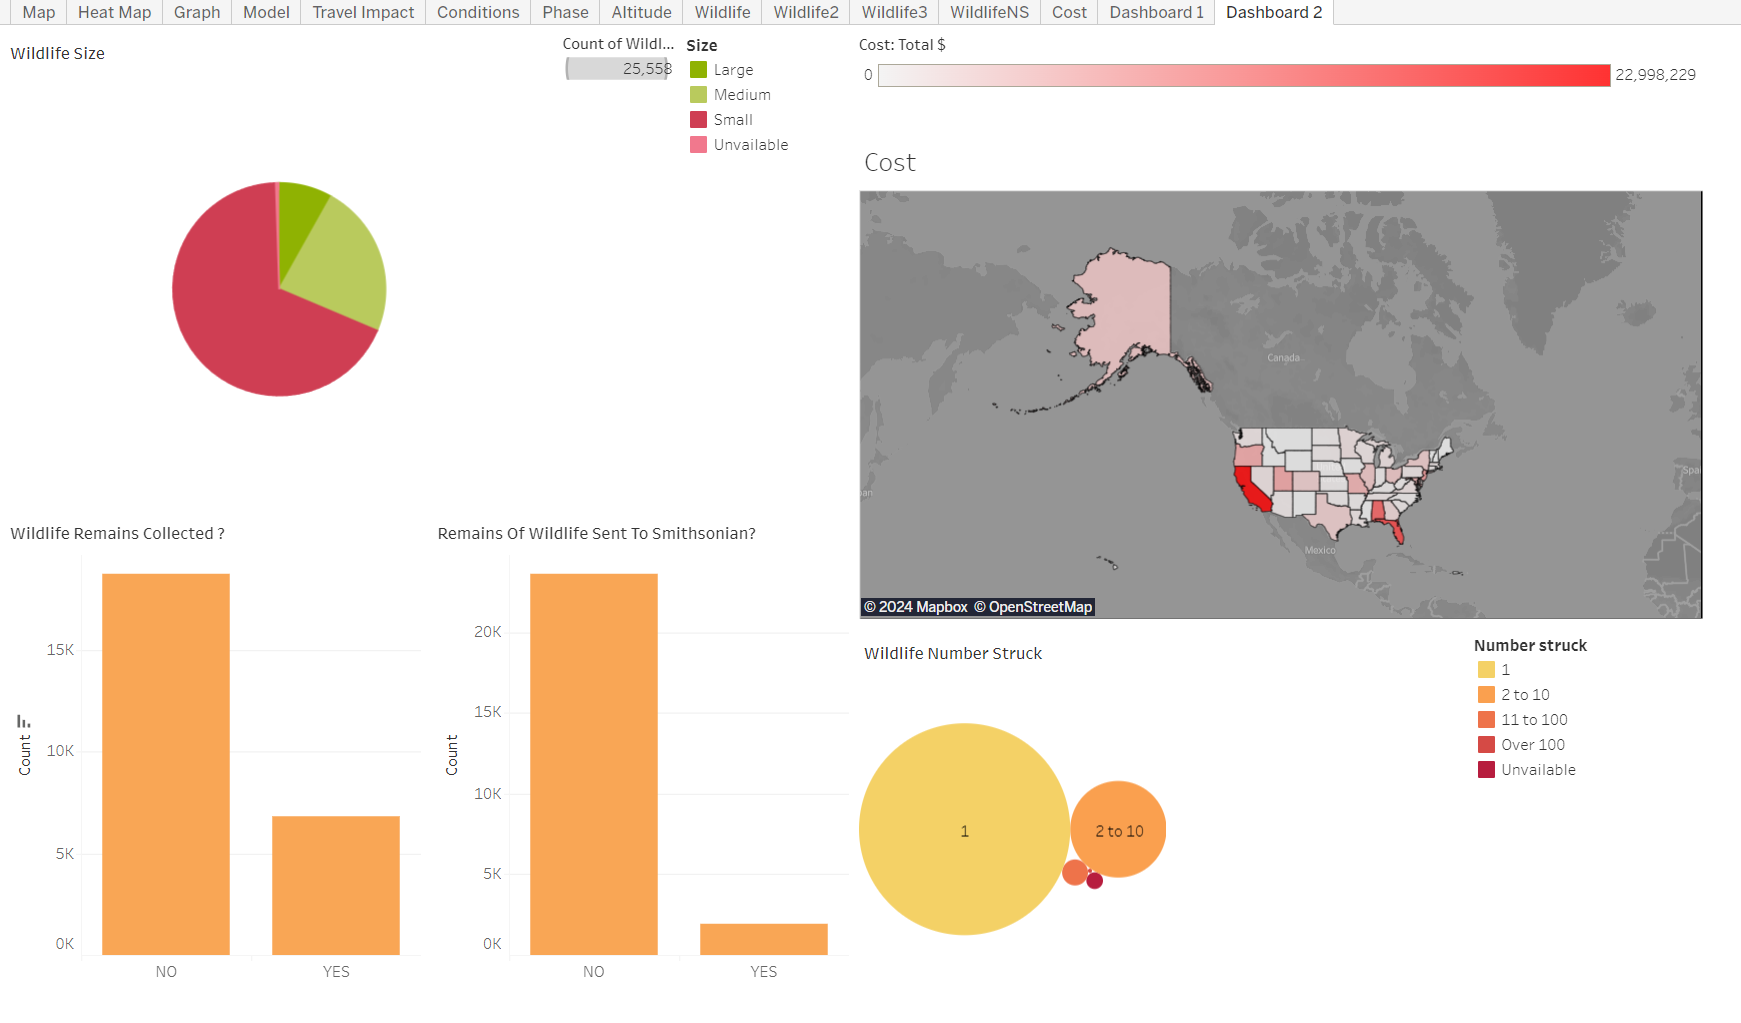

The page's visual inventory and layout, read from the dashboard file:
{"tool":"tableau","page":{"name":"Dashboard 2","canvas":[1366,768],"ordinal":1},"visuals":[{"type":"worksheet","title":"Wildlife","mark":"Pie","box":[0,0,446,384]},{"type":"legend","title":"Wildlife","param":"[federated.1nk4k961tnh49r17cxgra0x2zfky].[cnt:Wildlife: Size:qk]","box":[446,0,99,384]},{"type":"legend","title":"Wildlife","param":"[federated.1nk4k961tnh49r17cxgra0x2zfky].[none:Wildlife: Size:nk]","box":[545,0,138,384]},{"type":"legend","title":"Cost","param":"[federated.1nk4k961tnh49r17cxgra0x2zfky].[sum:Cost: Total $:qk]","box":[683,1,683,82]},{"type":"worksheet","title":"Cost","mark":"Automatic","box":[683,83,683,394]},{"type":"worksheet","title":"Wildlife2","mark":"Automatic","rows":["Remains of wildlife collected?"],"cols":["Remains of wildlife collected?"],"box":[0,384,341.5,384]},{"type":"worksheet","title":"Wildlife3","mark":"Automatic","rows":["Remains of wildlife sent to Smithsonian"],"cols":["Remains of wildlife sent to Smithsonian"],"box":[341.5,384,341.5,384]},{"type":"worksheet","title":"WildlifeNS","mark":"Circle","box":[683,480,492,288]},{"type":"legend","title":"WildlifeNS","param":"[federated.1nk4k961tnh49r17cxgra0x2zfky].[none:Wildlife: Number struck:nk]","box":[1175,480,191,288]}]}

Visuals, with their boxes on the page's 1366x768 design canvas (x1, y1, x2, y2). These are canvas units, not pixel positions in the 1741x1023 screenshot, which may show the page scaled, cropped or inside an application window:
"Wildlife" worksheet (Pie marks): {"x1": 0, "y1": 0, "x2": 446, "y2": 384}
"Wildlife" legend: {"x1": 446, "y1": 0, "x2": 545, "y2": 384}
"Wildlife" legend: {"x1": 545, "y1": 0, "x2": 683, "y2": 384}
"Cost" legend: {"x1": 683, "y1": 1, "x2": 1366, "y2": 83}
"Cost" worksheet: {"x1": 683, "y1": 83, "x2": 1366, "y2": 477}
"Wildlife2" worksheet: {"x1": 0, "y1": 384, "x2": 342, "y2": 768}
"Wildlife3" worksheet: {"x1": 342, "y1": 384, "x2": 683, "y2": 768}
"WildlifeNS" worksheet (Circle marks): {"x1": 683, "y1": 480, "x2": 1175, "y2": 768}
"WildlifeNS" legend: {"x1": 1175, "y1": 480, "x2": 1366, "y2": 768}
